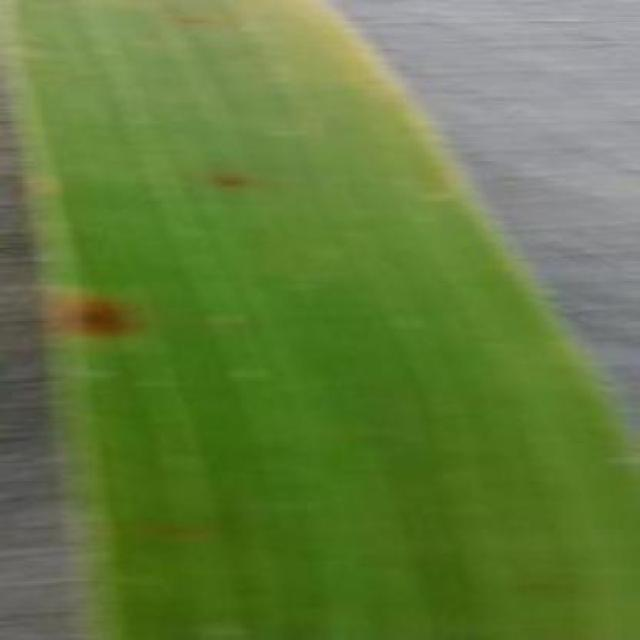Leaf_Blast: (41, 284, 157, 351), (507, 566, 568, 606), (196, 159, 262, 192), (209, 306, 265, 339), (152, 513, 206, 547), (173, 0, 221, 31)
